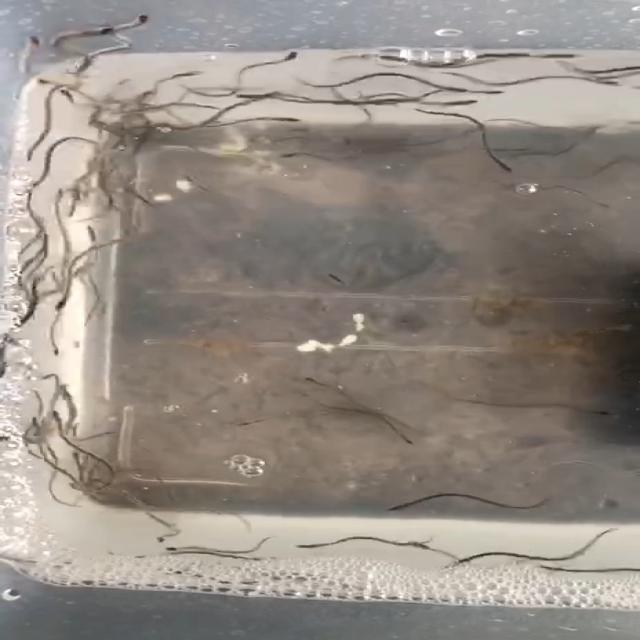inactive_glass_eel: (371, 497, 442, 519), (559, 404, 624, 426), (281, 536, 333, 562), (272, 108, 313, 140), (442, 548, 493, 573), (125, 11, 162, 44), (476, 154, 524, 179), (270, 49, 324, 71), (124, 183, 169, 209), (156, 543, 220, 561), (168, 167, 216, 191), (435, 92, 488, 113), (526, 557, 568, 581), (307, 265, 356, 284), (281, 147, 313, 176), (568, 72, 618, 88), (128, 533, 188, 546), (6, 37, 47, 56), (76, 220, 114, 240), (472, 83, 516, 99), (43, 78, 73, 101), (54, 289, 70, 320), (54, 185, 71, 213), (297, 371, 328, 386), (63, 90, 86, 110), (18, 306, 38, 326), (433, 81, 466, 93), (211, 419, 247, 430), (91, 22, 107, 46), (96, 184, 109, 211)
